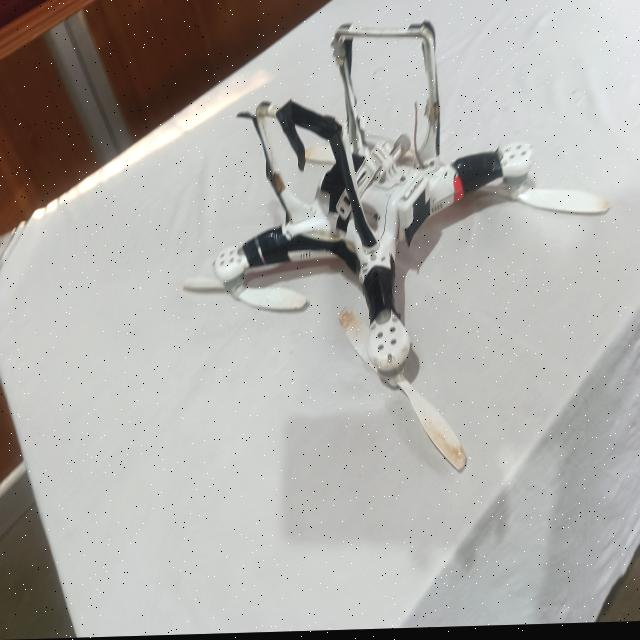drone: (209, 7, 551, 403)
